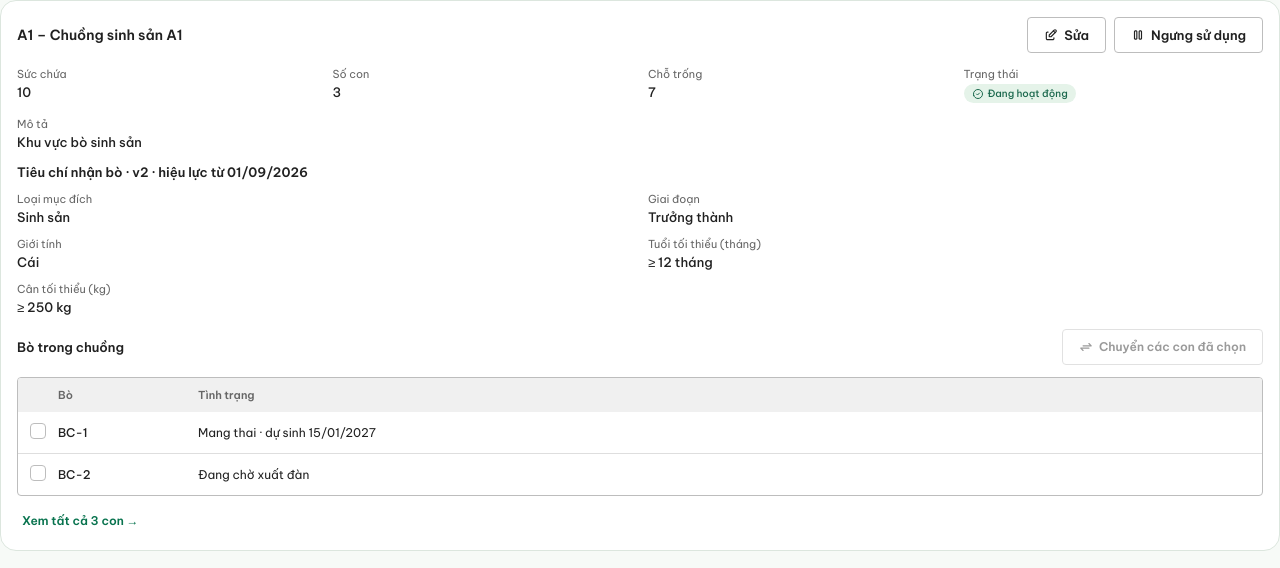
Pen detail (SCR-17) › drops ticks of cattle that left the pen when the detail reloads after a move
This screenshot has width=1280, height=568.
Later steps or results of the test are not shown.
Click the checkbox named "Chọn BC-2" at (38, 472), box [30, 464, 46, 481]
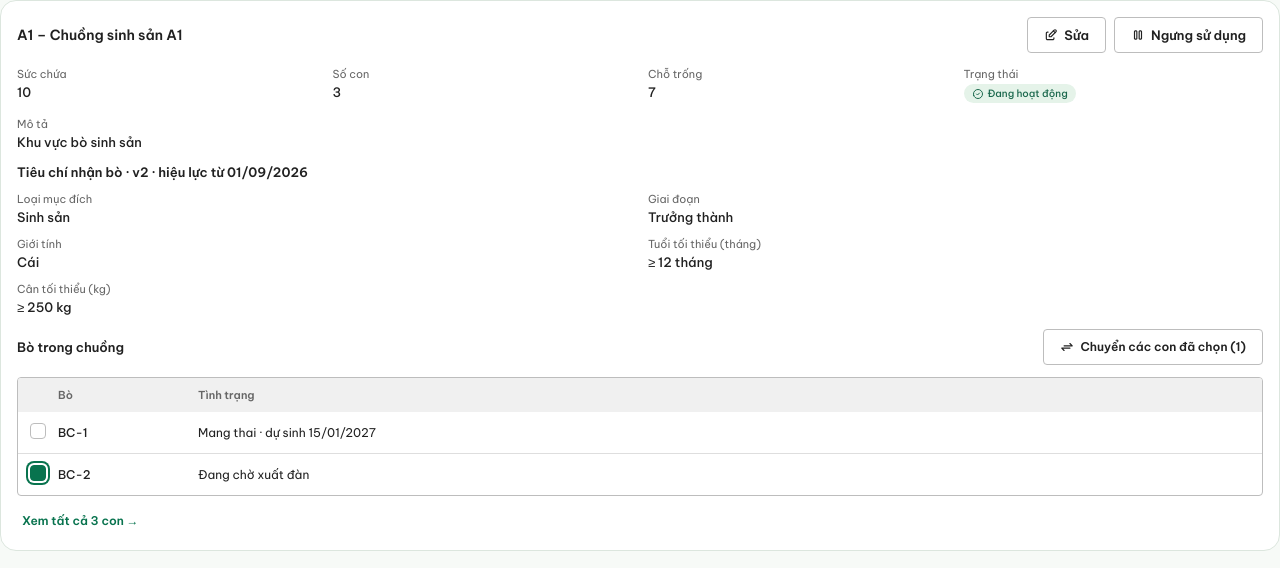
Expected: the button "Chuyển các con đã chọn (1)" is enabled, [1044, 329, 1263, 365]
